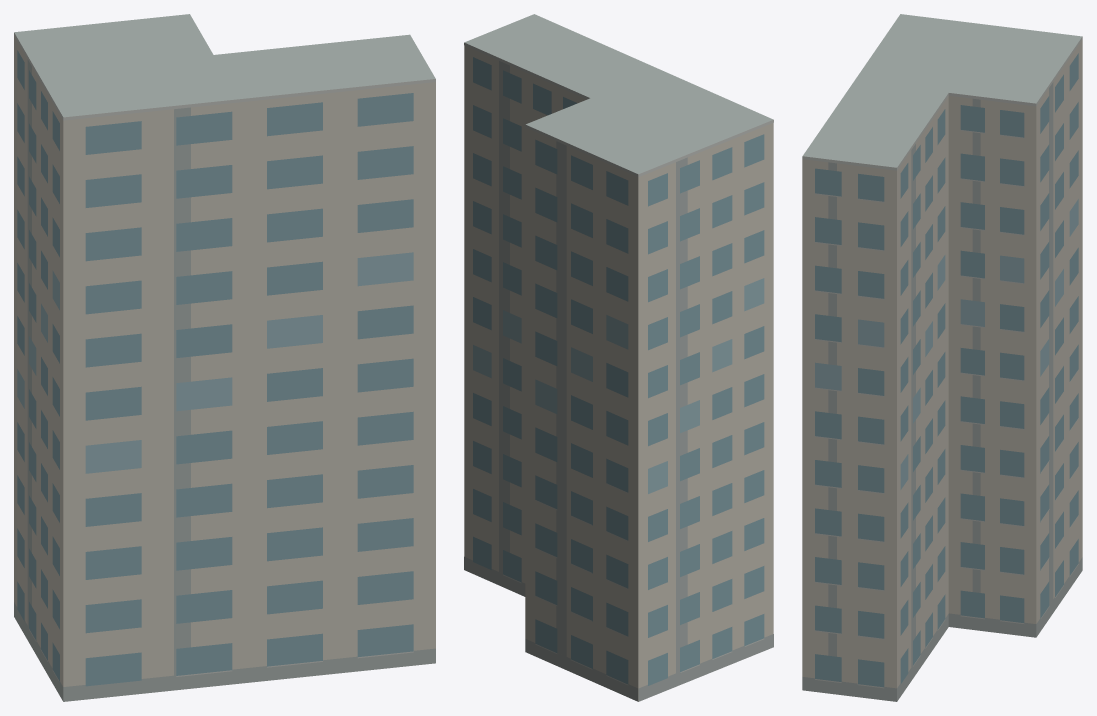
Rendered from residential-ae74287c-a9bb-4858-9613-010a219d224b.glb.
3 renders of one model, left to right at view 1: azimuth 30°, elevation 25°; view 2: azimuth 150°, elevation 25°; view 3: azimuth 270°, elevation 25°, orthographic. The views are drawn at different scales.
Parts seen in each view (by area): view 1: residential-ae74287c-a9bb-4858-9613-010a219d224b.tmp; view 2: residential-ae74287c-a9bb-4858-9613-010a219d224b.tmp; view 3: residential-ae74287c-a9bb-4858-9613-010a219d224b.tmp.
Boxes of the visible parts, x1=… form: residential-ae74287c-a9bb-4858-9613-010a219d224b.tmp: x1=14, y1=14, x2=435, y2=701; residential-ae74287c-a9bb-4858-9613-010a219d224b.tmp: x1=464, y1=14, x2=773, y2=701; residential-ae74287c-a9bb-4858-9613-010a219d224b.tmp: x1=802, y1=14, x2=1082, y2=701.
Size of the model in its own units: 27.18 by 44 by 20.92.
